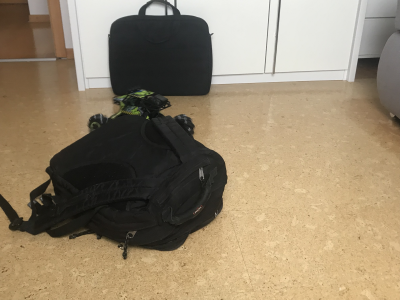remote control car: (86, 87, 195, 145)
